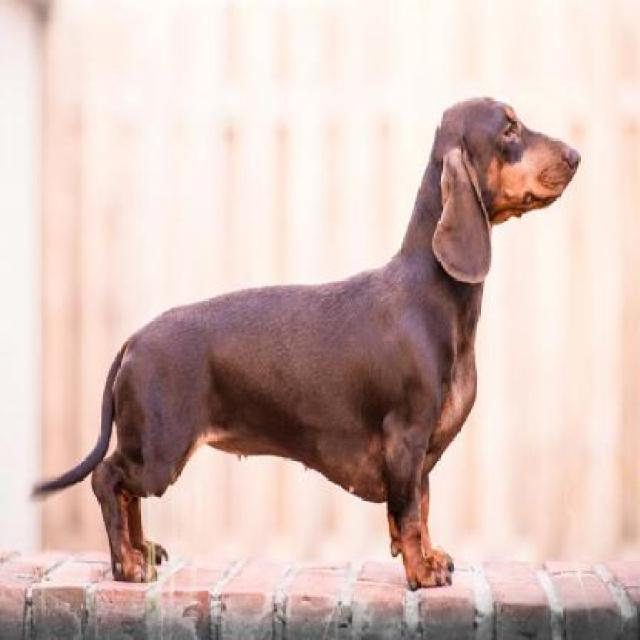Dog: (23, 97, 582, 592)
